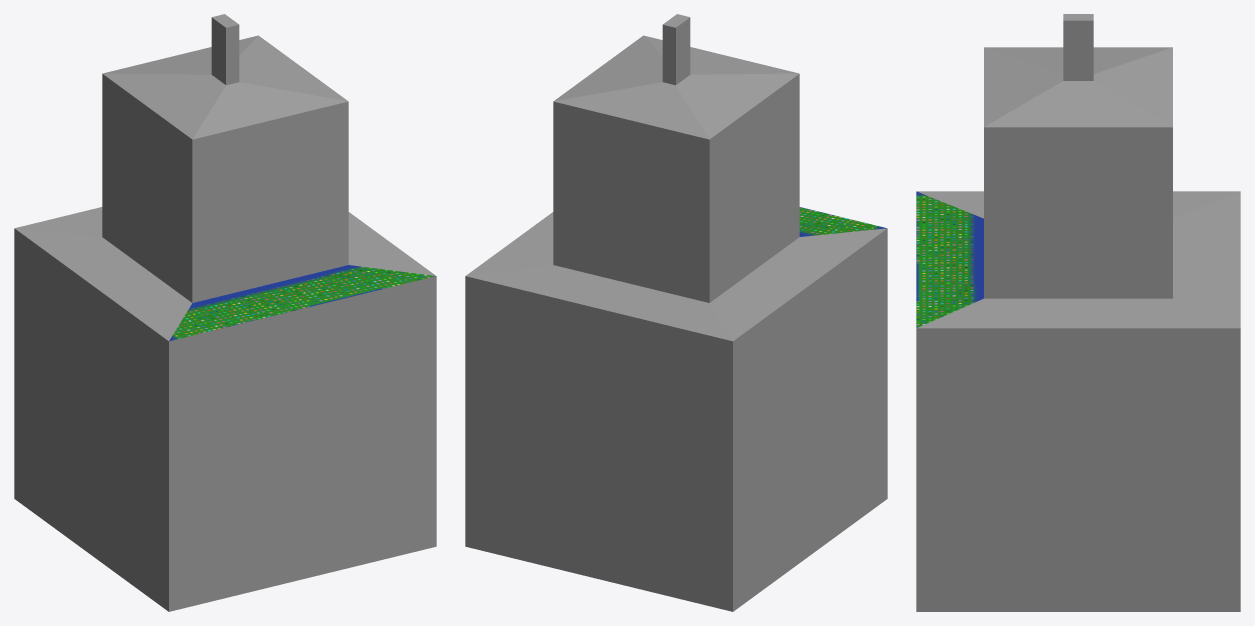
File: building3.obj
The picture shows the model from 3 angles, left to right: view 1: azimuth 30°, elevation 25°; view 2: azimuth 150°, elevation 25°; view 3: azimuth 270°, elevation 25°; orthographic projection. The views are drawn at different scales.
Parts seen in each view (by area): view 1: Cube.001; view 2: Cube.001; view 3: Cube.001.
Part boxes in pixels (box(x1,y1,x2,y2)): Cube.001: box(14, 14, 436, 611); Cube.001: box(465, 14, 887, 611); Cube.001: box(916, 14, 1240, 611).
Size of the model in its own units: 2 by 3.58 by 2.
